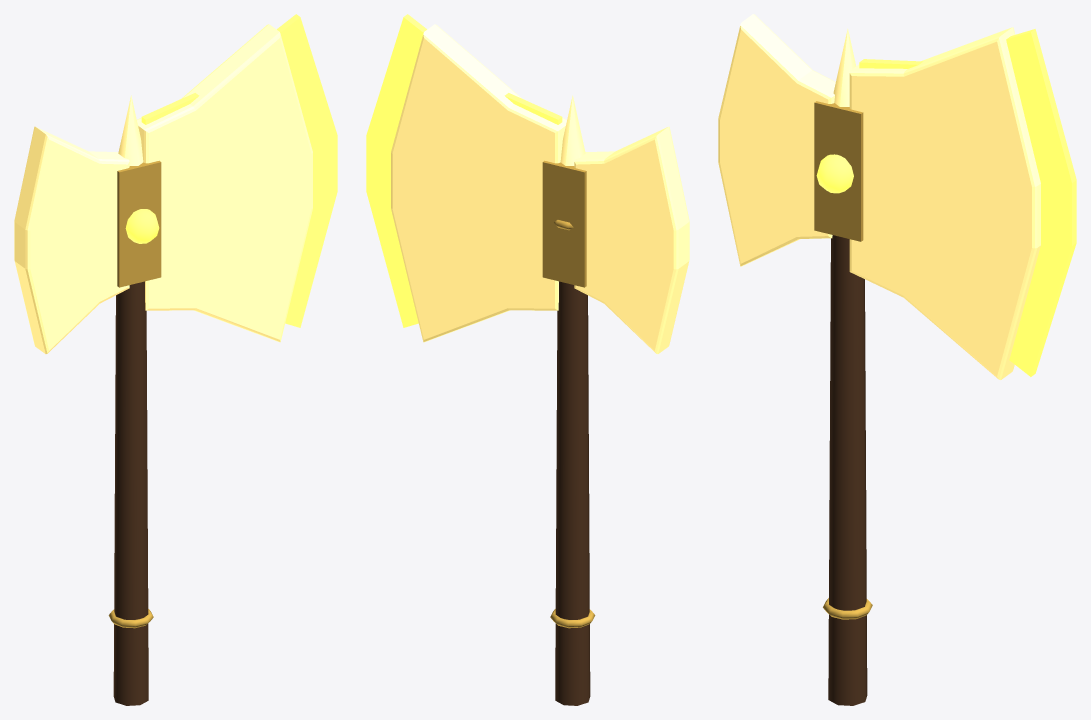
The model's file is axe_f0_ffac312a.glb.
3 renders of one model, left to right at view 1: azimuth 30°, elevation 25°; view 2: azimuth 150°, elevation 25°; view 3: azimuth 330°, elevation 25°, orthographic. The views are drawn at different scales.
Parts seen in each view (by area): view 1: m4_ow80_, m0_ow80_, m1_gm110_, m3_ow80_, m2_gm160_; view 2: m4_ow80_, m0_ow80_, m1_gm110_, m3_ow80_; view 3: m4_ow80_, m0_ow80_, m1_gm110_, m3_ow80_, m2_gm160_.
Part boxes in pixels (<box>): m4_ow80_: <box>14,24,312,353</box>; m0_ow80_: <box>113,281,148,705</box>; m1_gm110_: <box>141,14,337,327</box>; m3_ow80_: <box>108,160,161,628</box>; m2_gm160_: <box>125,209,159,243</box>; m4_ow80_: <box>391,24,689,353</box>; m0_ow80_: <box>555,281,590,705</box>; m1_gm110_: <box>366,14,562,327</box>; m3_ow80_: <box>542,160,595,628</box>; m4_ow80_: <box>718,14,1040,379</box>; m0_ow80_: <box>828,235,867,705</box>; m1_gm110_: <box>859,29,1076,376</box>; m3_ow80_: <box>814,101,872,619</box>; m2_gm160_: <box>816,154,853,193</box>.
Size of the model in its own units: 1.2 by 2.34 by 0.2013.
